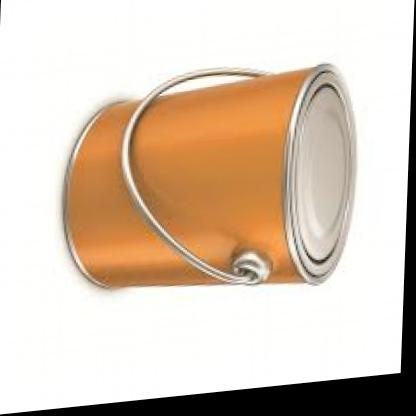trash: (64, 64, 355, 286)
